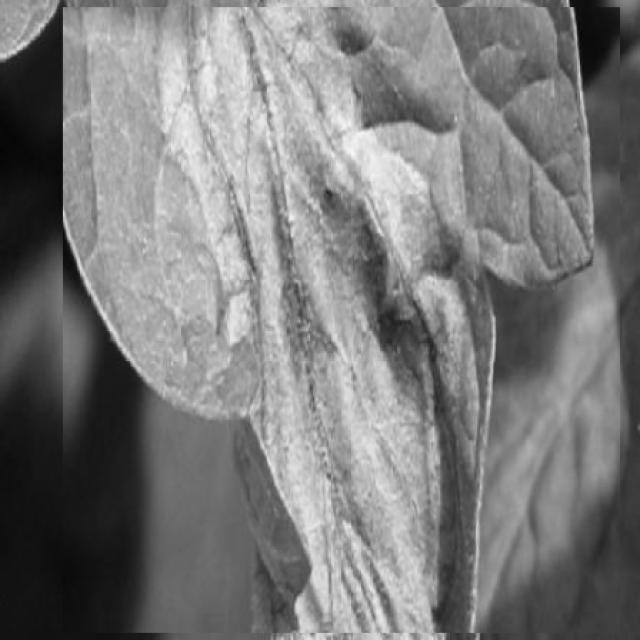Late Blight: (64, 8, 620, 633)
